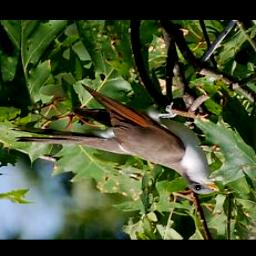Cuckoo: (9, 84, 219, 196)
